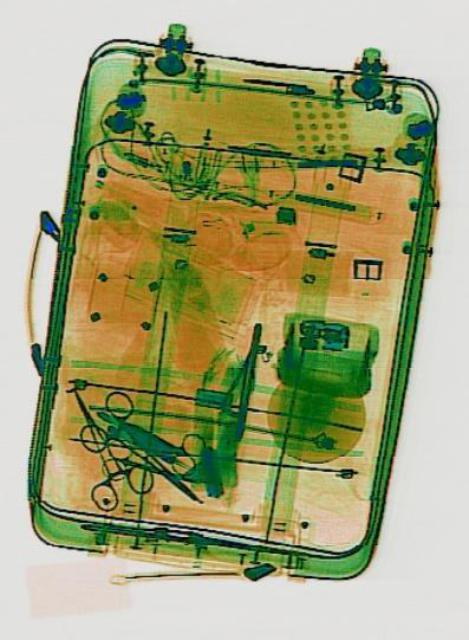Scissors: (71, 378, 218, 534), (46, 370, 155, 522), (101, 394, 208, 488), (93, 431, 169, 504)
